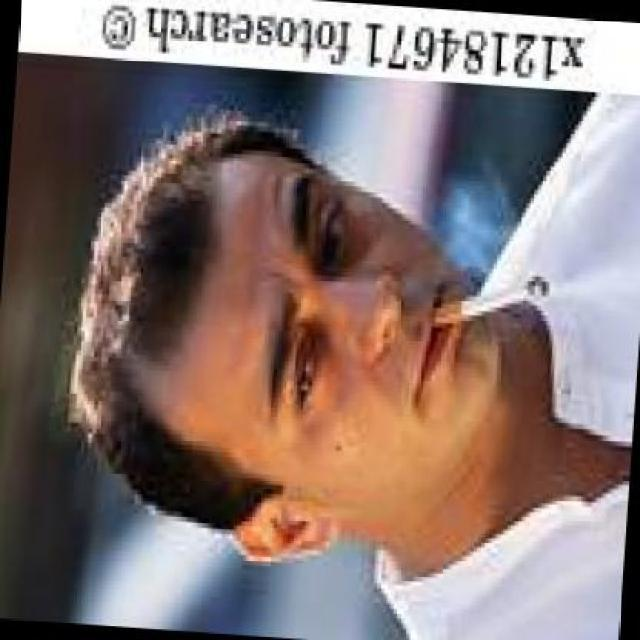smoke: (430, 264, 552, 334)
